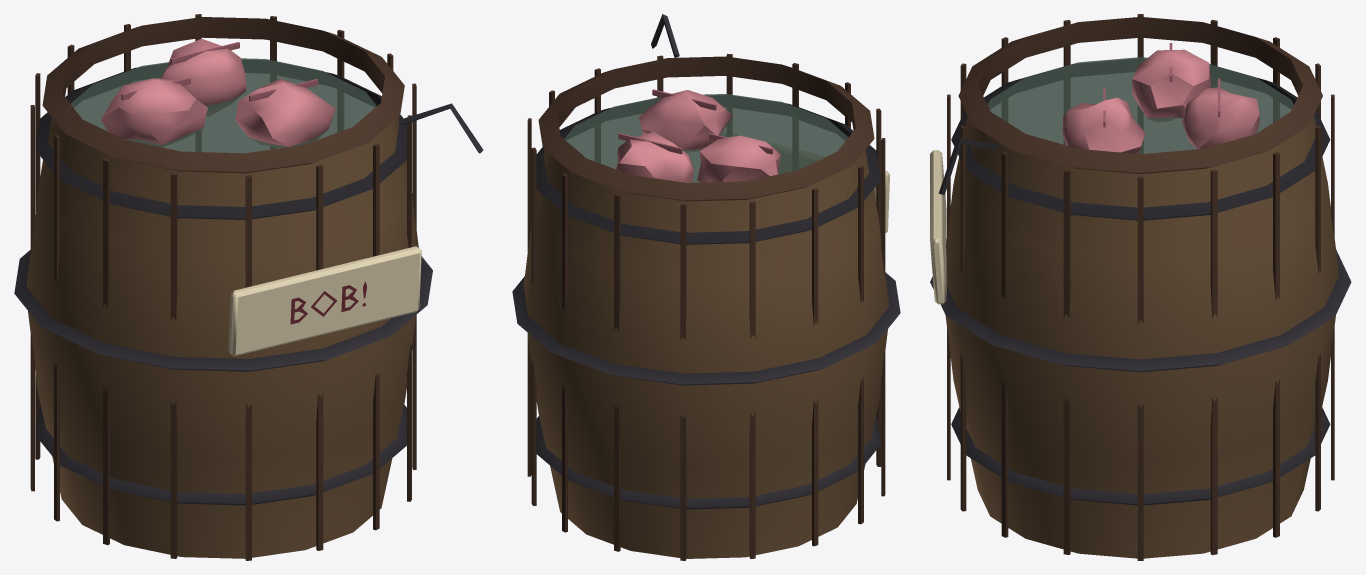
Rendered from bob_for_brains.glb.
The picture shows the model from 3 angles, left to right: view 1: azimuth 30°, elevation 25°; view 2: azimuth 150°, elevation 25°; view 3: azimuth 270°, elevation 25°; orthographic projection. The views are drawn at different scales.
Parts seen in each view (by area): view 1: bob_for_brains, water, sign; view 2: bob_for_brains, water; view 3: bob_for_brains, water.
Boxes of the visible parts, x1,y1,x2,y2 form: bob_for_brains: [14, 14, 483, 560]; water: [70, 58, 376, 153]; sign: [290, 281, 366, 324]; bob_for_brains: [512, 14, 900, 560]; water: [564, 94, 848, 182]; bob_for_brains: [930, 14, 1351, 560]; water: [987, 57, 1293, 153].
Size of the model in its own units: 0.698 by 0.765 by 0.6989.
